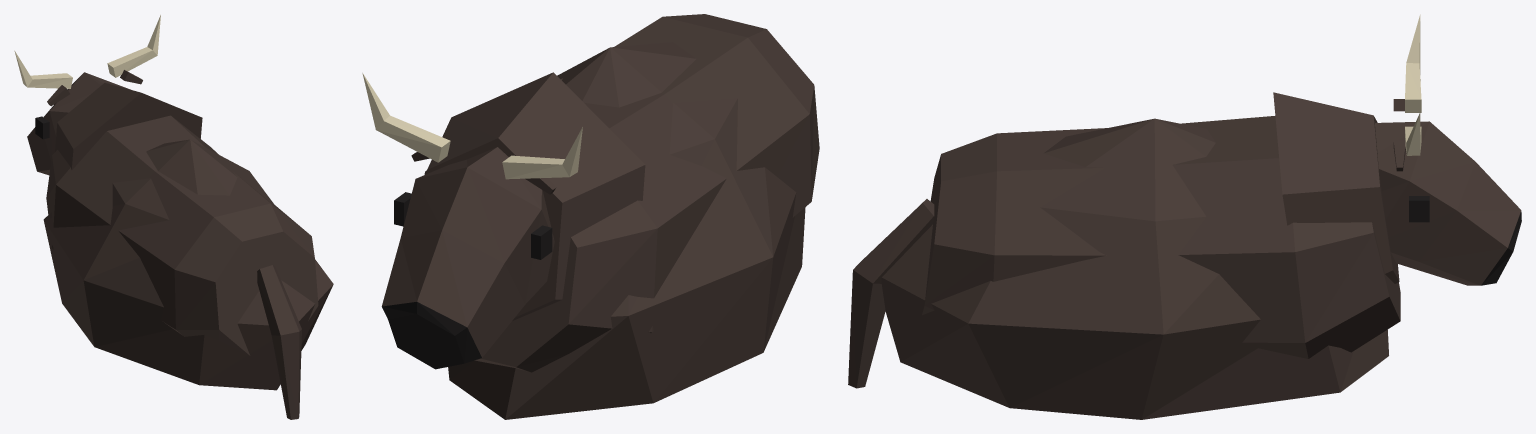
The model's file is animal_yak.obj.
3 views of the same model, side by side, from view 1: azimuth 30°, elevation 25°; view 2: azimuth 150°, elevation 25°; view 3: azimuth 270°, elevation 25° (orthographic). The views are drawn at different scales.
Parts seen in each view (by area): view 1: animal_yak; view 2: animal_yak; view 3: animal_yak.
Part boxes in pixels (x1,y1,x2,y2): animal_yak: (14, 15, 333, 419); animal_yak: (362, 14, 819, 419); animal_yak: (848, 14, 1521, 419).
Bounding box in the file's own units: 0.832 × 0.9328 × 1.73.
